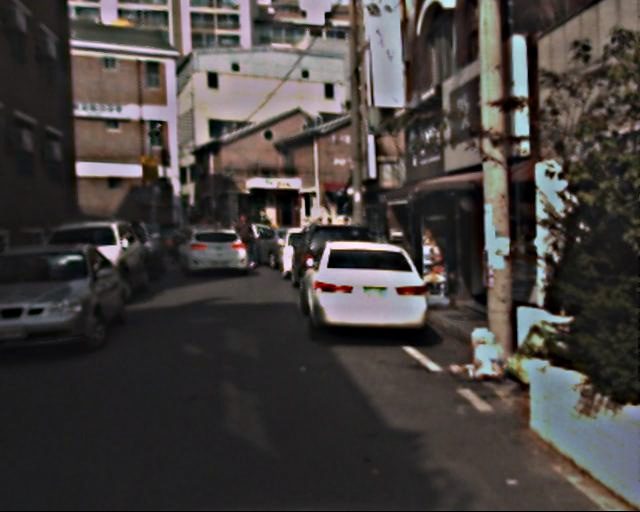person: (233, 212, 257, 271)
